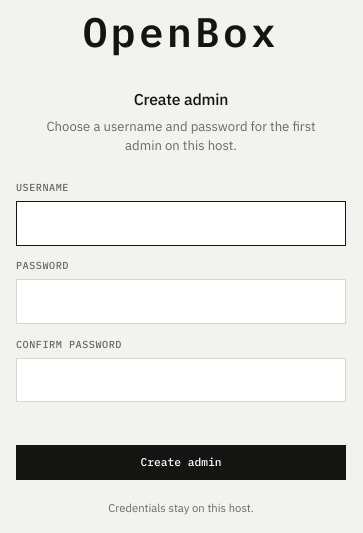
Scenario: App › keeps setup open when bootstrap is unavailable
The image size is (363, 533).
Type "admin" into the field labelled "Username" at coordinates (181, 224), box x1=16 y1=201 x2=346 y2=246
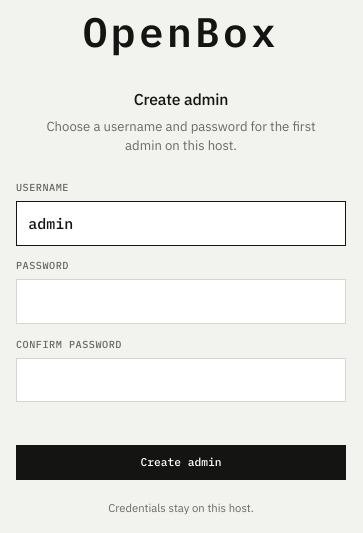
Type "correct horse battery staple" into the password field labelled "Password" at coordinates (181, 302), box x1=16 y1=279 x2=346 y2=324
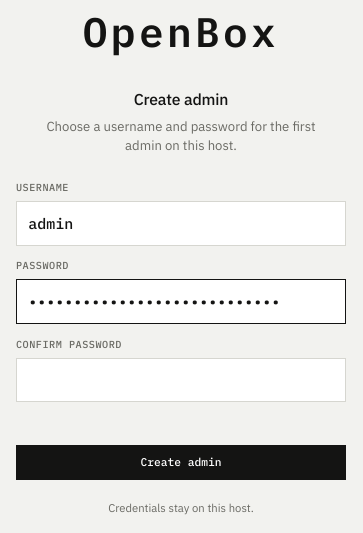
Type "correct horse battery staple" into the password field labelled "Confirm password" at coordinates (181, 380), box x1=16 y1=358 x2=346 y2=402
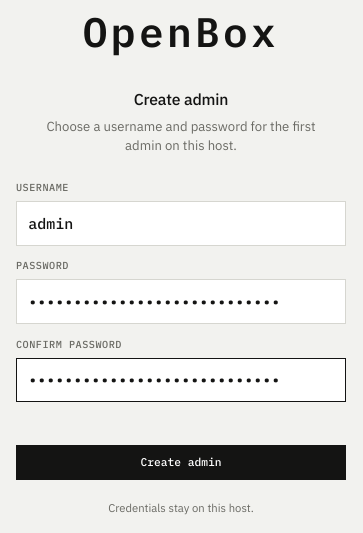
Click the button "Create admin" at coordinates (181, 462), box x1=16 y1=445 x2=346 y2=480
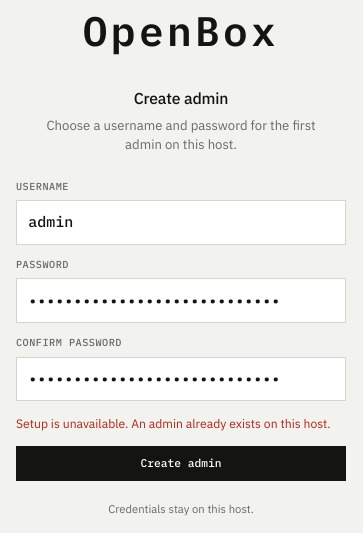
Expected: the heading "Create admin" is shown, x1=134 y1=88 x2=228 y2=108
Now the message reads "Setup is unavailable. An admin already exists on this host.", box x1=16 y1=416 x2=331 y2=431
